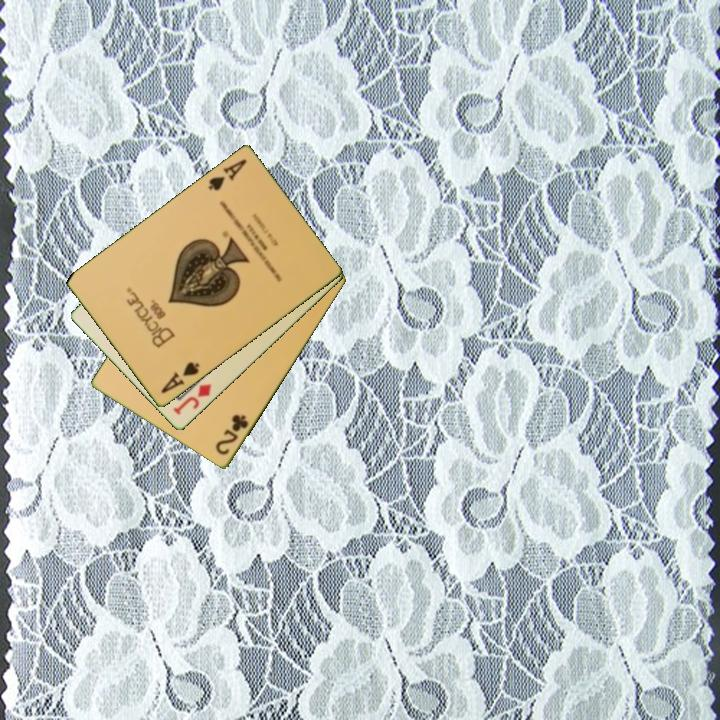2c: (212, 411, 252, 458)
As: (157, 359, 203, 397), (204, 156, 250, 194)
Jd: (170, 380, 214, 418)
